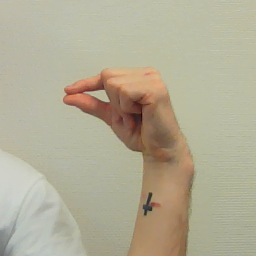S: (58, 63, 192, 171)
